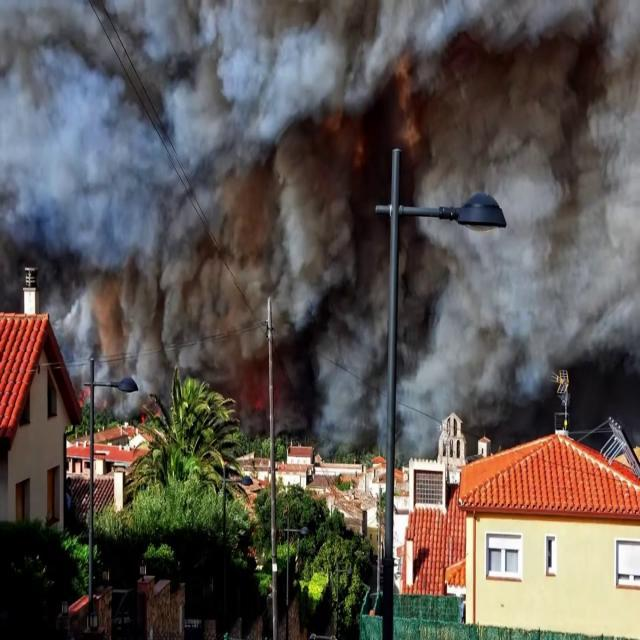Smoke: (5, 1, 639, 440)
